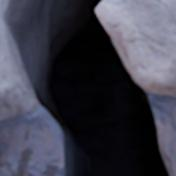broken_brick: (98, 0, 175, 98), (0, 19, 39, 121), (0, 0, 3, 12)
crack: (0, 0, 173, 175)
